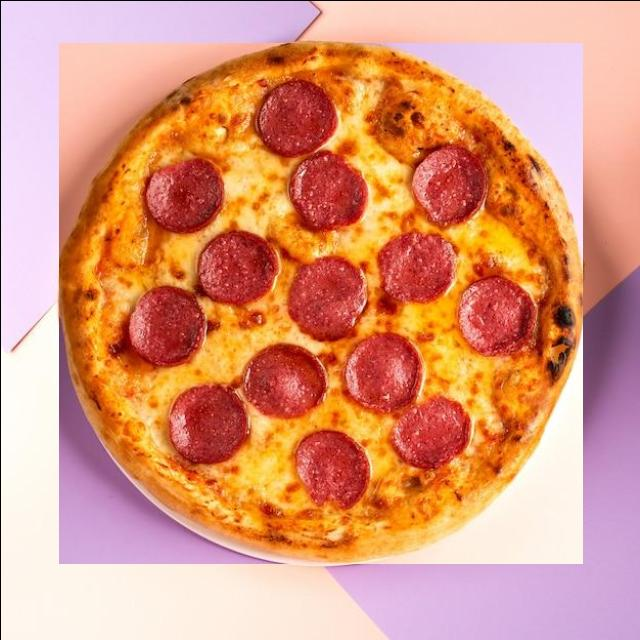pepperoni: (273, 256, 353, 342), (434, 285, 514, 367), (314, 342, 399, 418), (394, 385, 472, 464), (304, 79, 384, 156), (106, 276, 183, 356), (170, 394, 251, 470), (219, 332, 295, 412), (272, 429, 346, 510), (276, 150, 352, 228), (364, 230, 443, 305), (154, 145, 228, 224), (418, 159, 496, 232), (186, 232, 262, 304)
pizza: (58, 42, 582, 563)
